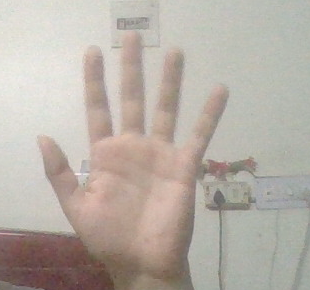move: (41, 31, 217, 290)
